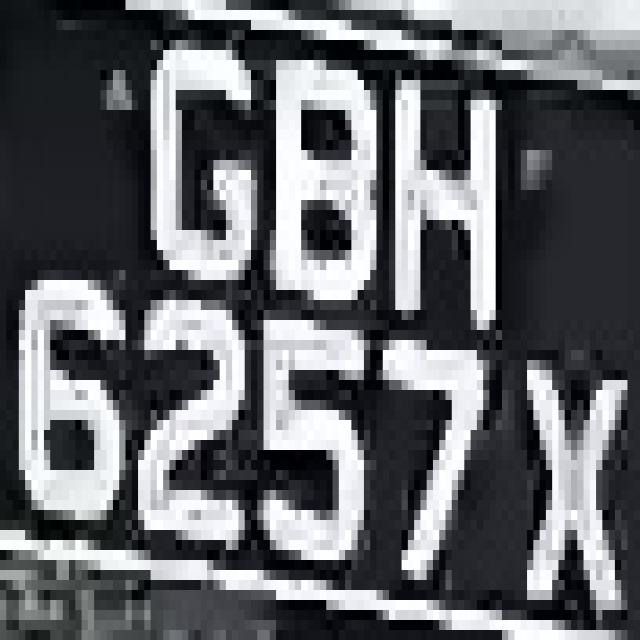2: (138, 280, 245, 570)
5: (270, 280, 376, 550)
6: (6, 230, 126, 580)
7: (364, 330, 496, 580)
B: (257, 30, 370, 310)
G: (132, 30, 264, 290)
H: (376, 50, 502, 360)
X: (5, 5, 6, 10)
